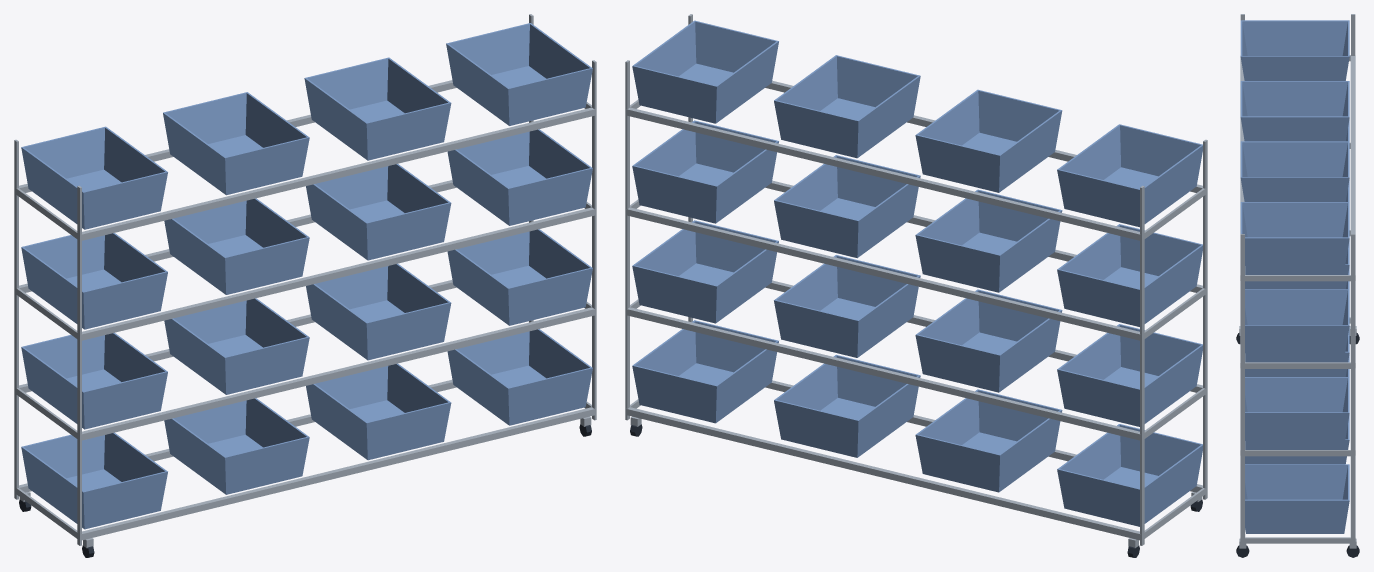
Rendered from SM_MPR_SorterSimCart64_2_LOD1.fbx.
3 views of the same model, side by side, from view 1: azimuth 30°, elevation 25°; view 2: azimuth 150°, elevation 25°; view 3: azimuth 270°, elevation 25° (orthographic). The views are drawn at different scales.
Parts seen in each view (by area): view 1: SM_MPR_SorterSimCart64_2_LOD1; view 2: SM_MPR_SorterSimCart64_2_LOD1; view 3: SM_MPR_SorterSimCart64_2_LOD1.
Boxes of the visible parts, x1,y1,x2,y2 form: SM_MPR_SorterSimCart64_2_LOD1: (14, 14, 596, 557); SM_MPR_SorterSimCart64_2_LOD1: (625, 14, 1207, 557); SM_MPR_SorterSimCart64_2_LOD1: (1236, 14, 1359, 557).
Bounding box in the file's own units: 241 × 56.9 × 166.
